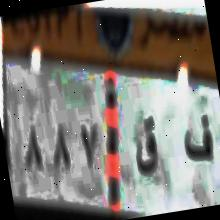7: (80, 121, 102, 171)
8: (19, 120, 46, 176), (48, 124, 74, 176)
faa: (174, 98, 218, 170)
qaaf: (128, 112, 165, 188)
